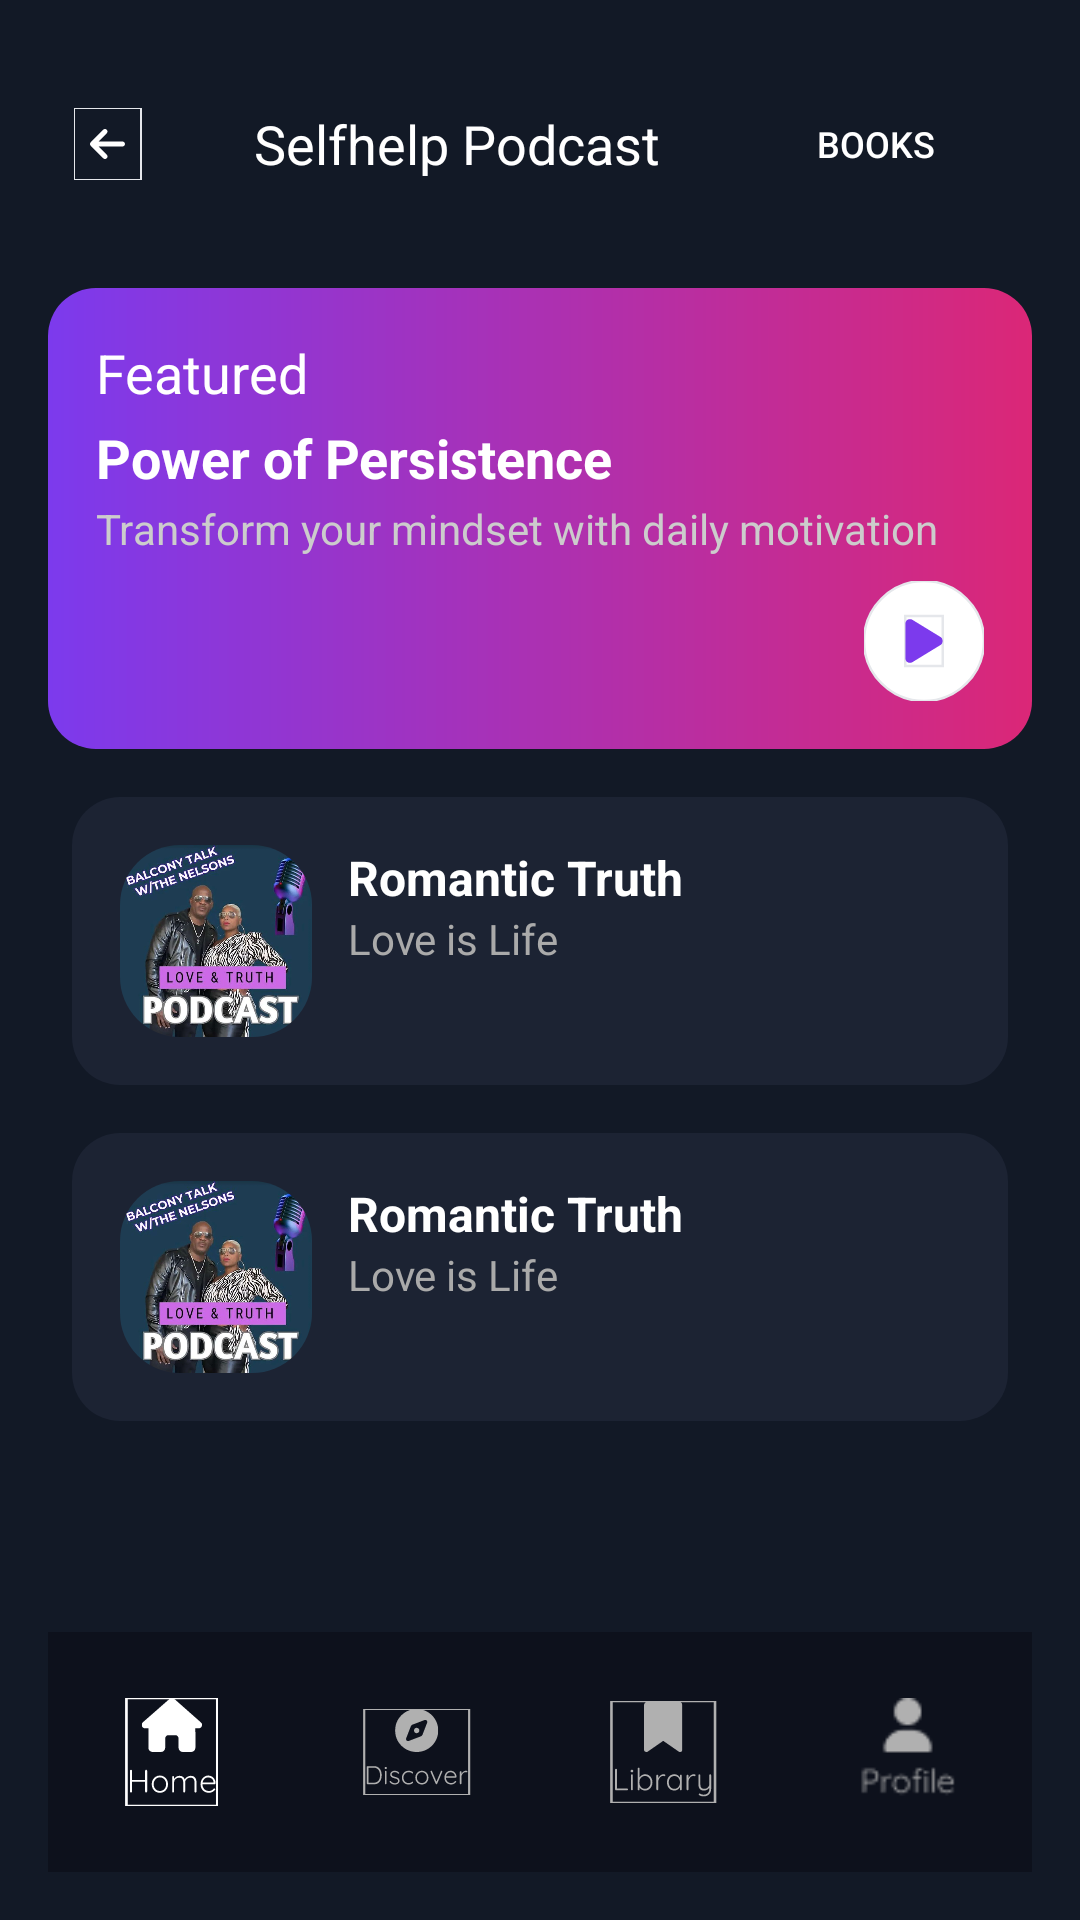

Locate icon controls on the screen. Image size 1080 × 1920, boxes as BBox(x1, y1, x2, y2).
backbutt: BBox(74, 108, 142, 180)
play: BBox(864, 581, 984, 701)
